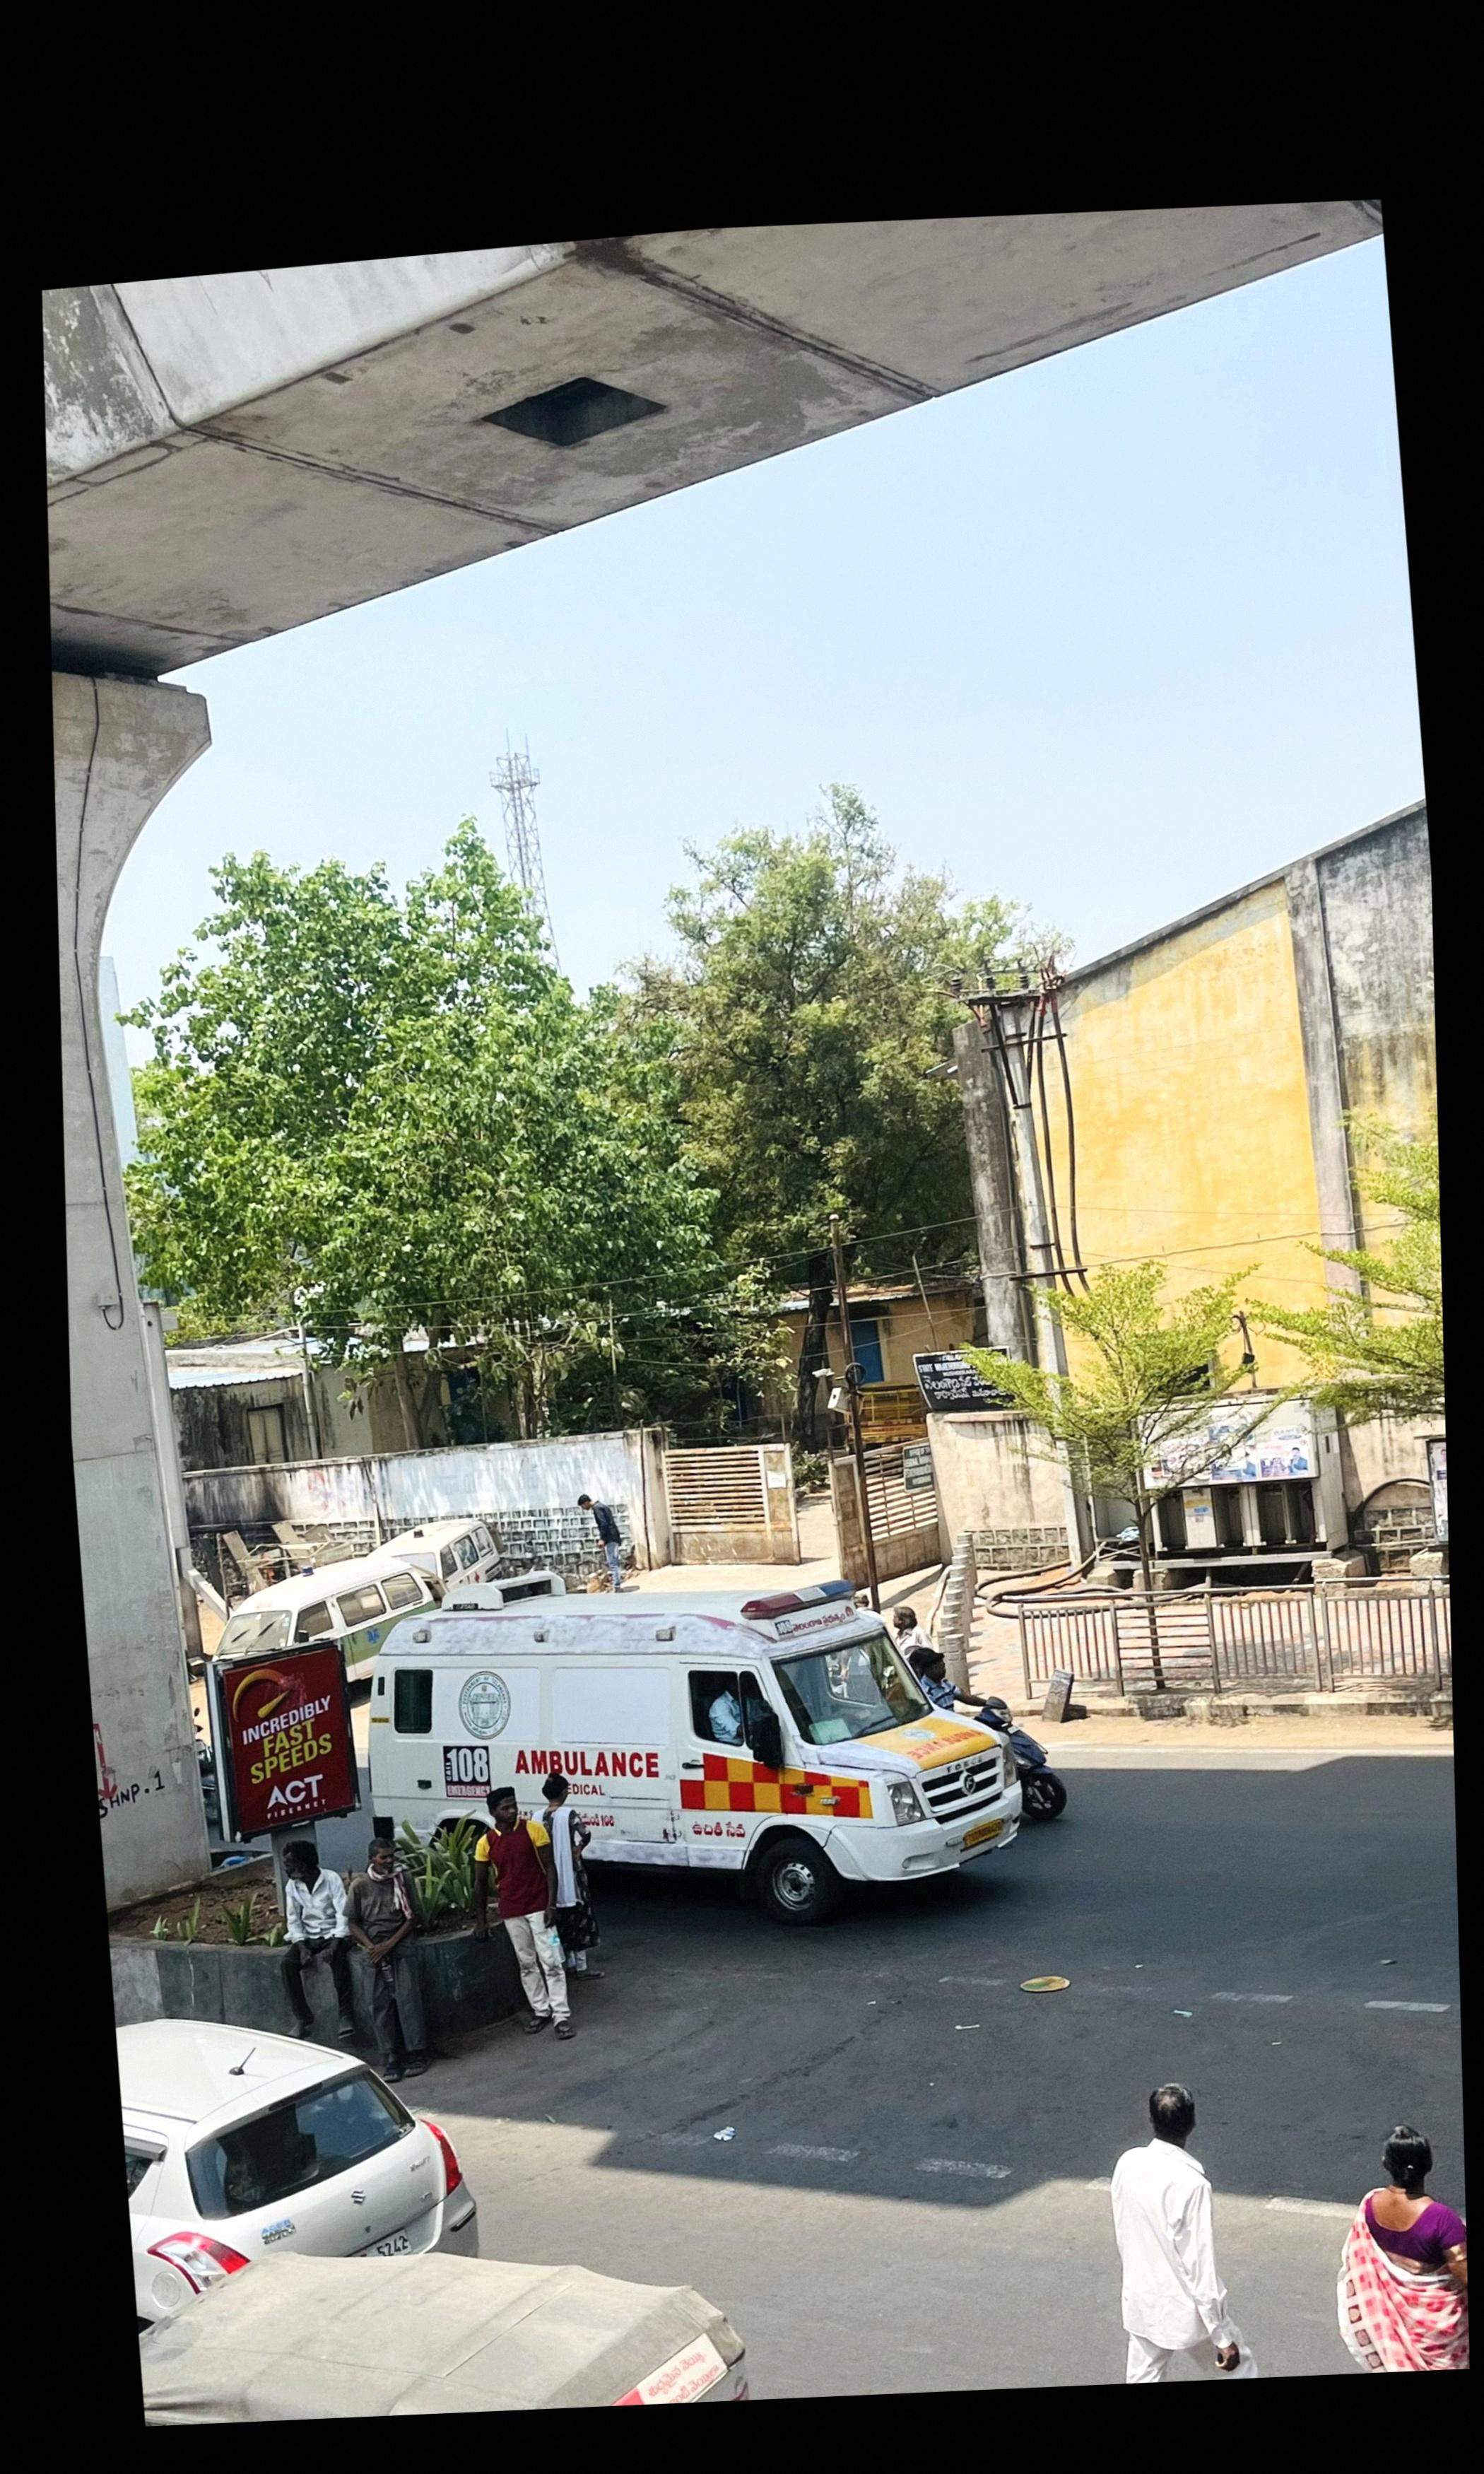ambulance: (369, 1567, 1025, 1919)
